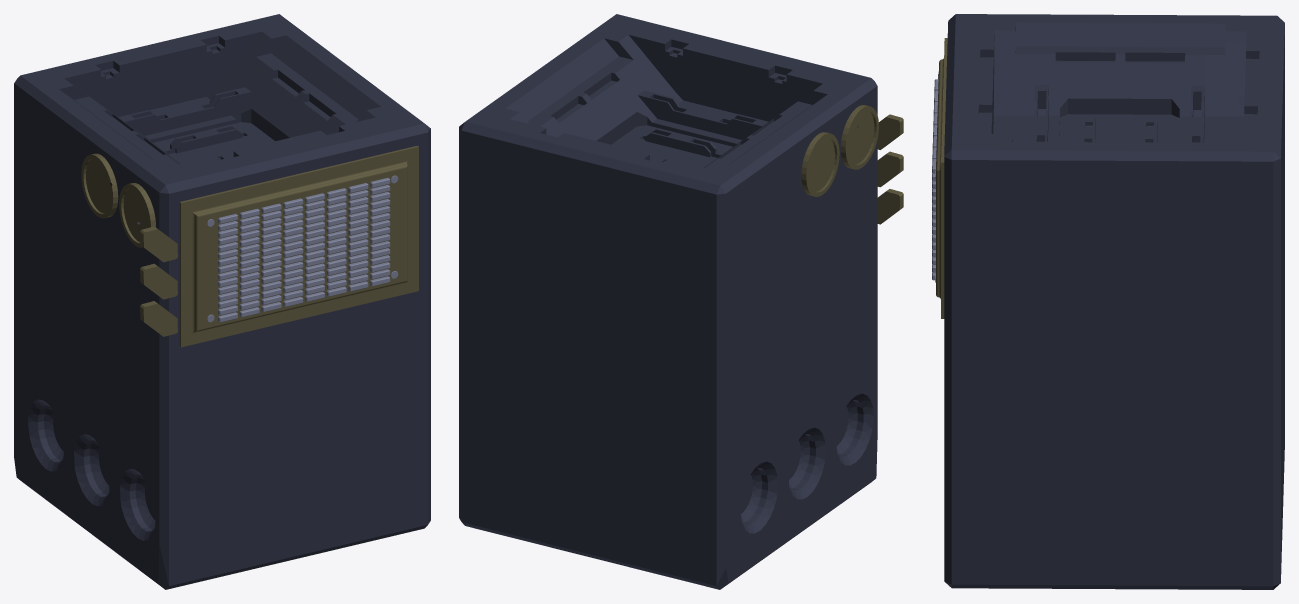
Rendered from 前景大方盒烟囱_002.fbx.
The picture shows the model from 3 angles, left to right: view 1: azimuth 30°, elevation 25°; view 2: azimuth 150°, elevation 25°; view 3: azimuth 270°, elevation 25°; orthographic projection. The views are drawn at different scales.
Visible parts, largest first — view 1: 前景大方盒烟囱.002; view 2: 前景大方盒烟囱.002; view 3: 前景大方盒烟囱.002.
Part boxes in pixels (x1=…): 前景大方盒烟囱.002: x1=14, y1=14, x2=430, y2=589; 前景大方盒烟囱.002: x1=459, y1=14, x2=903, y2=589; 前景大方盒烟囱.002: x1=932, y1=14, x2=1284, y2=589.
Bounding box in the file's own units: 1.23 × 1.63 × 1.19.
